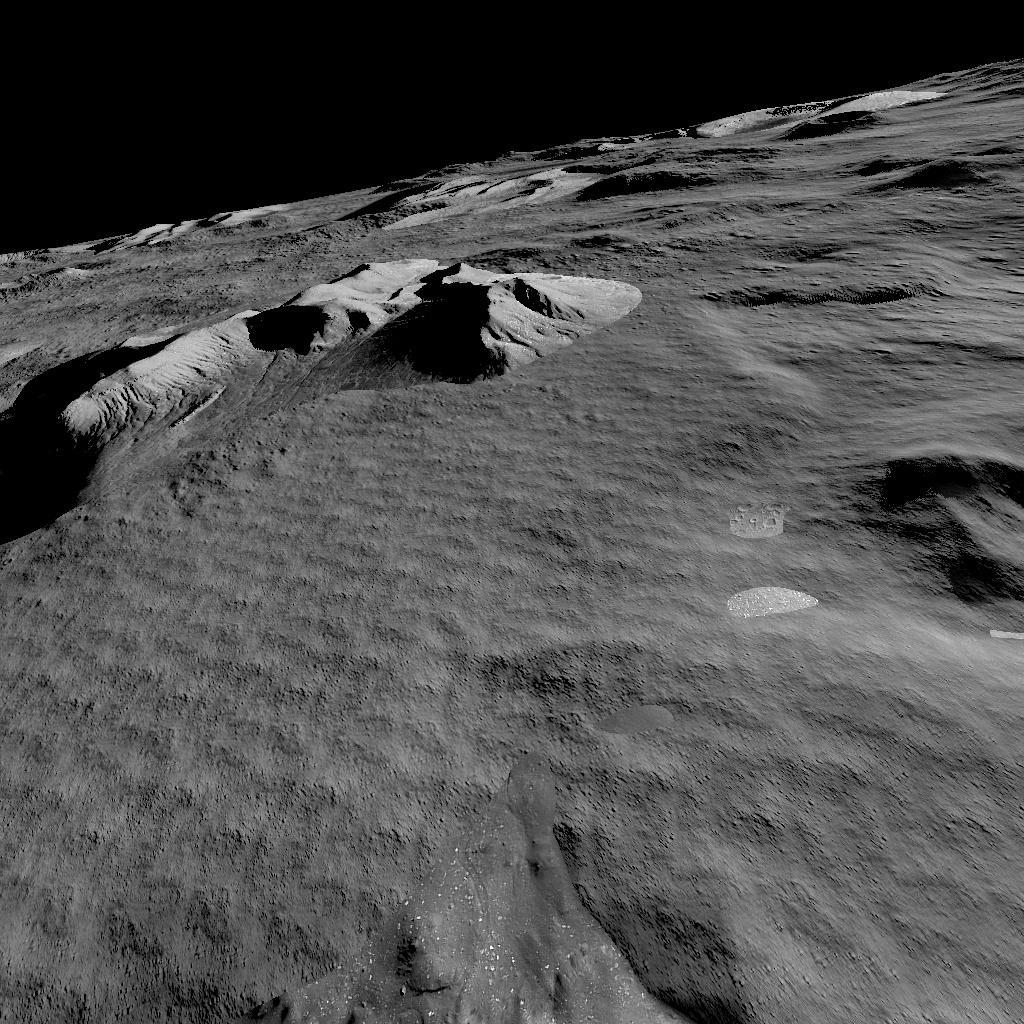Boulders: (4, 254, 650, 512), (338, 54, 1014, 236), (96, 198, 288, 246)
Crater: (5, 875, 1024, 1024), (864, 430, 1024, 618), (702, 264, 946, 324)
Plan surface: (0, 536, 852, 838)
